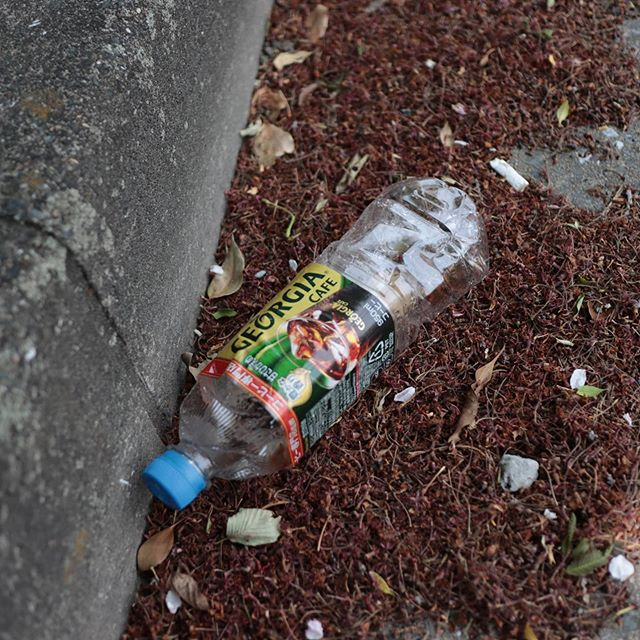trash: (105, 108, 583, 640)
